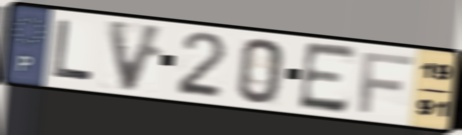0: (234, 37, 286, 106)
2: (176, 30, 230, 101)
E: (296, 40, 360, 116)
F: (356, 50, 416, 115)
L: (49, 17, 96, 85)
V: (105, 17, 169, 94)
